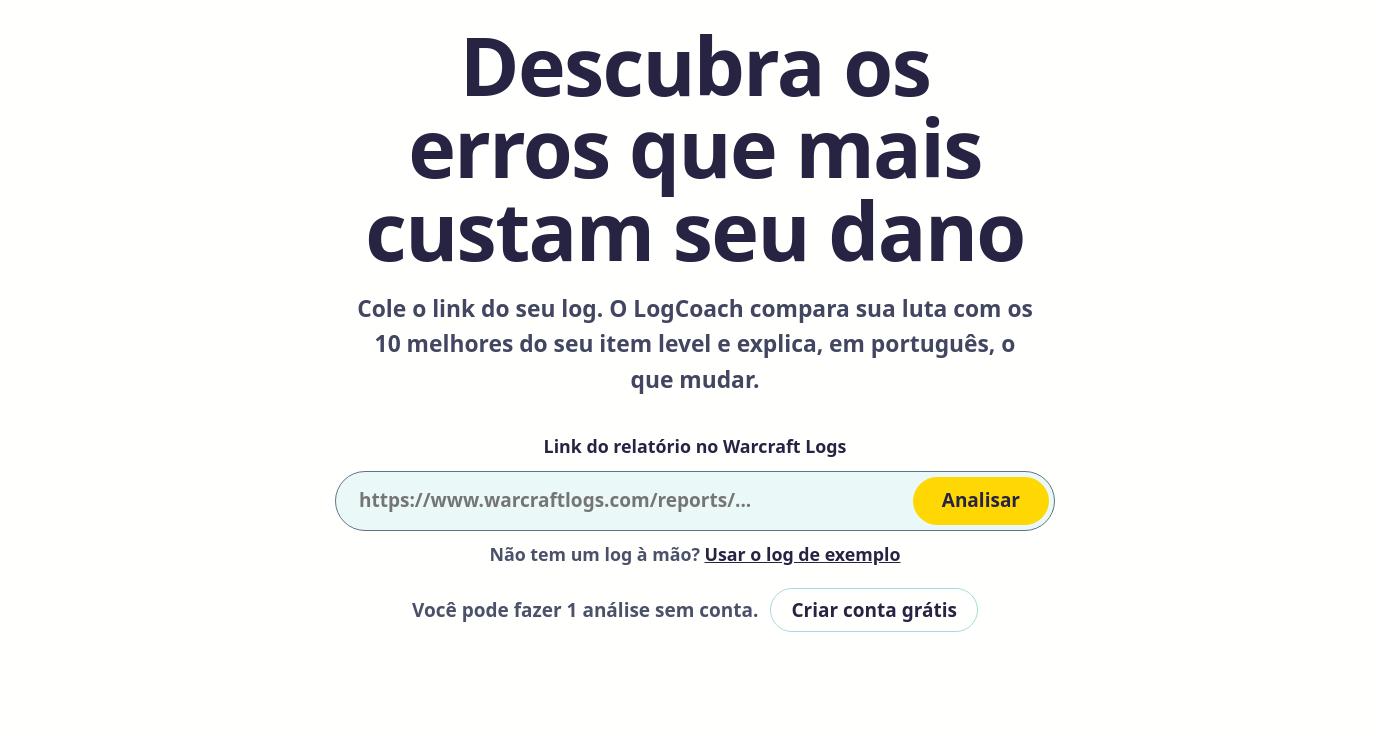
Scenario: Home › 'Usar o log de exemplo' preenche o campo e leva ao relatório de referência
Later steps or results of the test are not shown.
What coordinates should you click on to do the following:
click the button "Usar o log de exemplo"
I would click on:
 (803, 554)
Its box is [705,541,901,568].
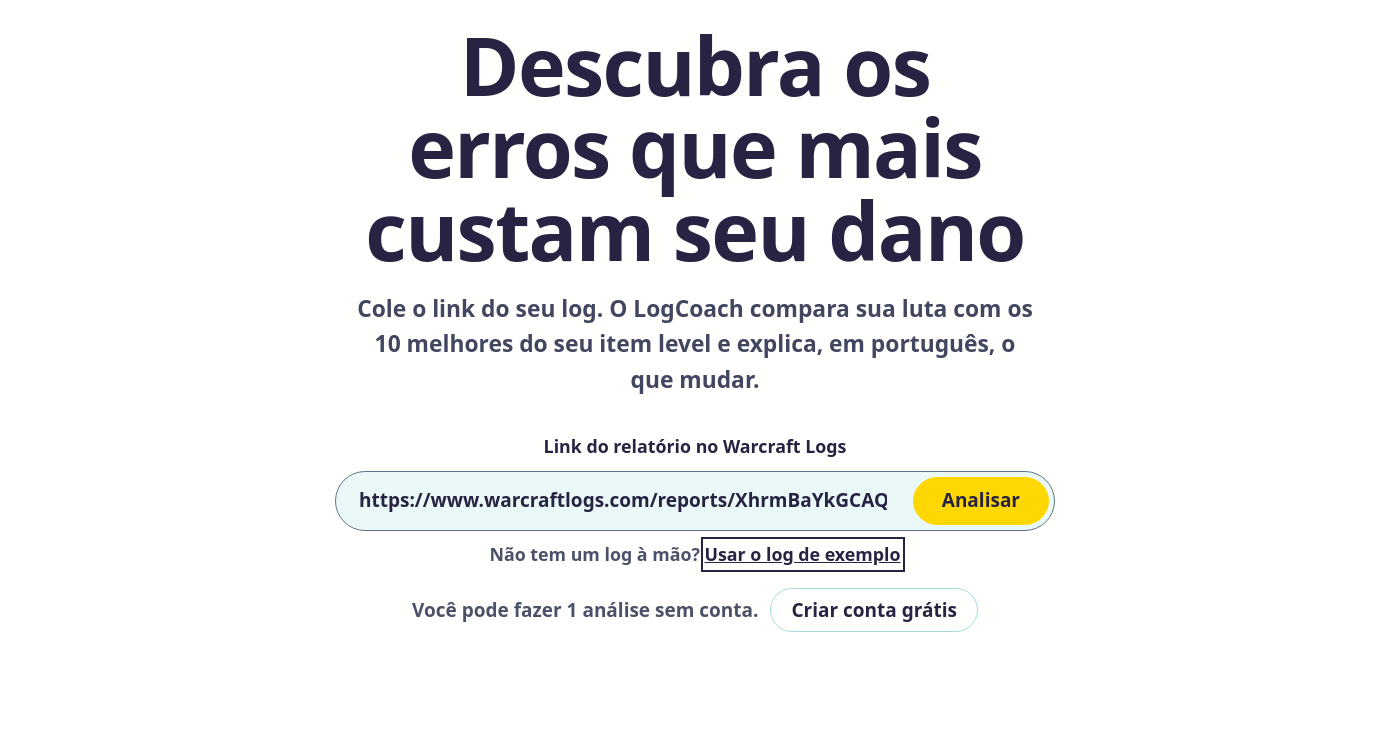
Now the field labelled "Link do relatório no Warcraft Logs" holds "https://www.warcraftlogs.com/reports/XhrmBaYkGCAQjH2D#fight=34", box [341,479,905,523]
